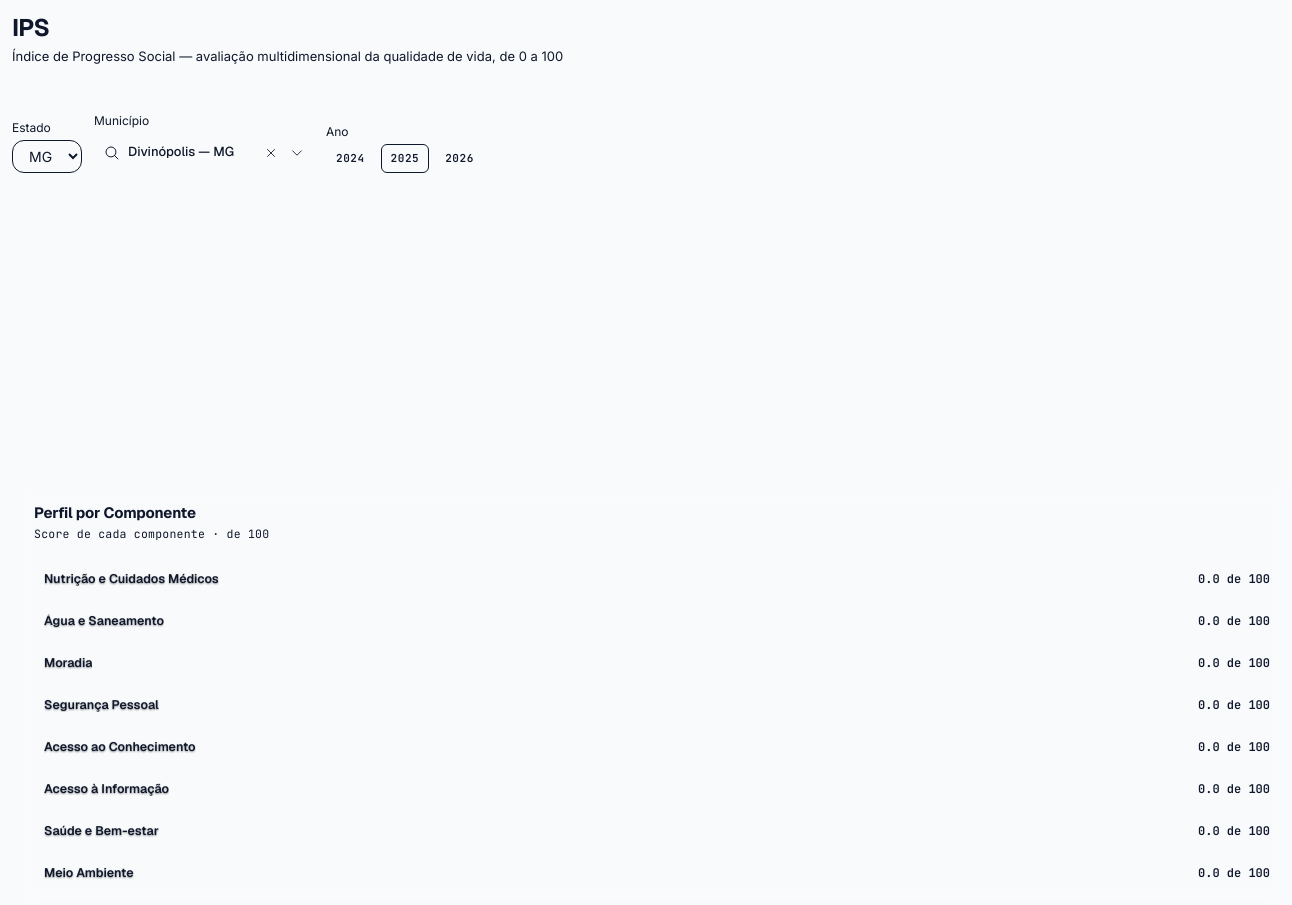
Scenario: IpsPage — anos com dados vêm do backend › município escolhido no seletor é mantido ao trocar de ano; sem dados no ano, a página avisa
This screenshot has width=1292, height=905.
Click the button with aria-label "Selecionar município".
click(178, 152)  # box [104, 132, 252, 172]
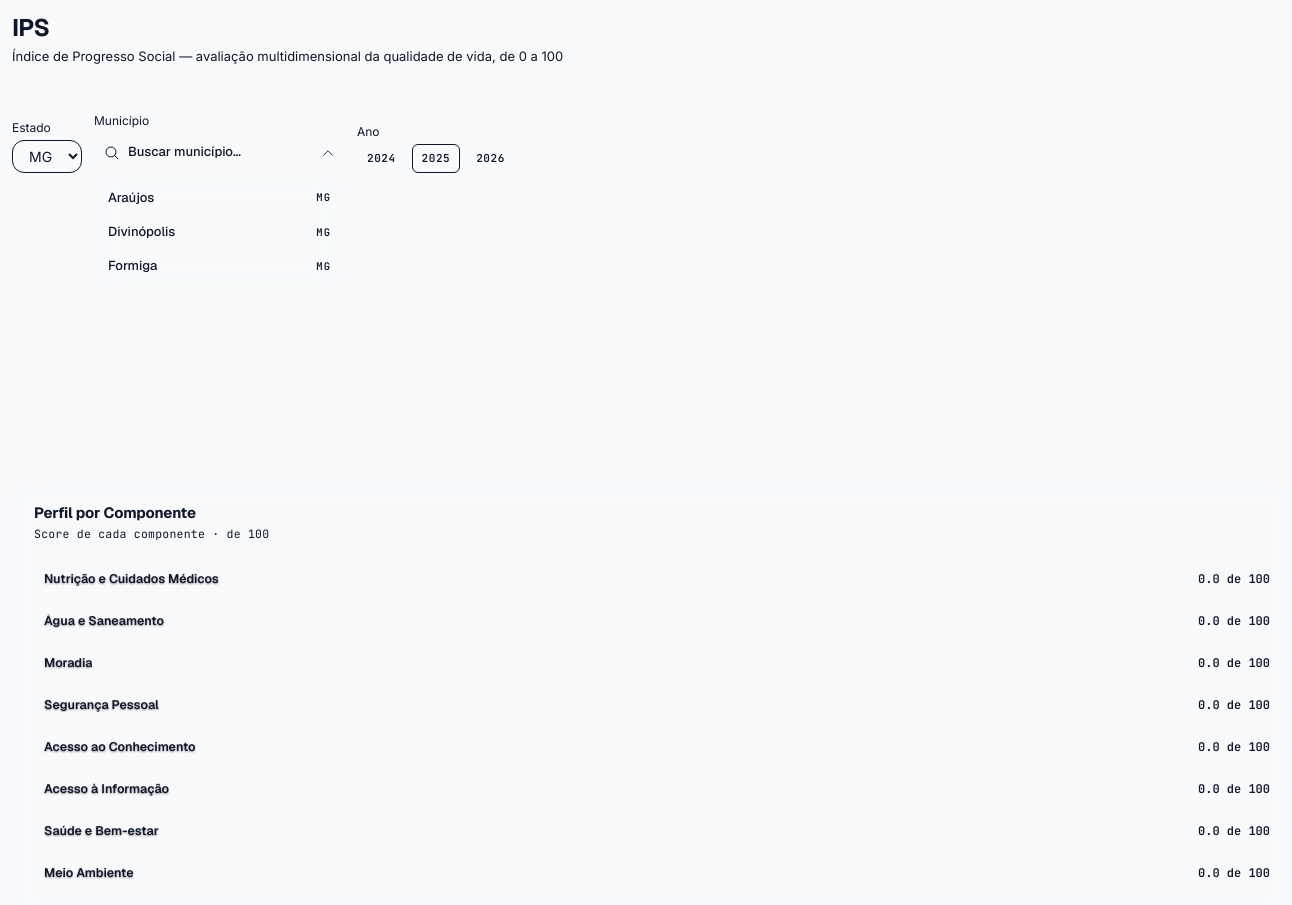
Click the option "Formiga MG".
click(133, 265)  # box [108, 257, 331, 274]
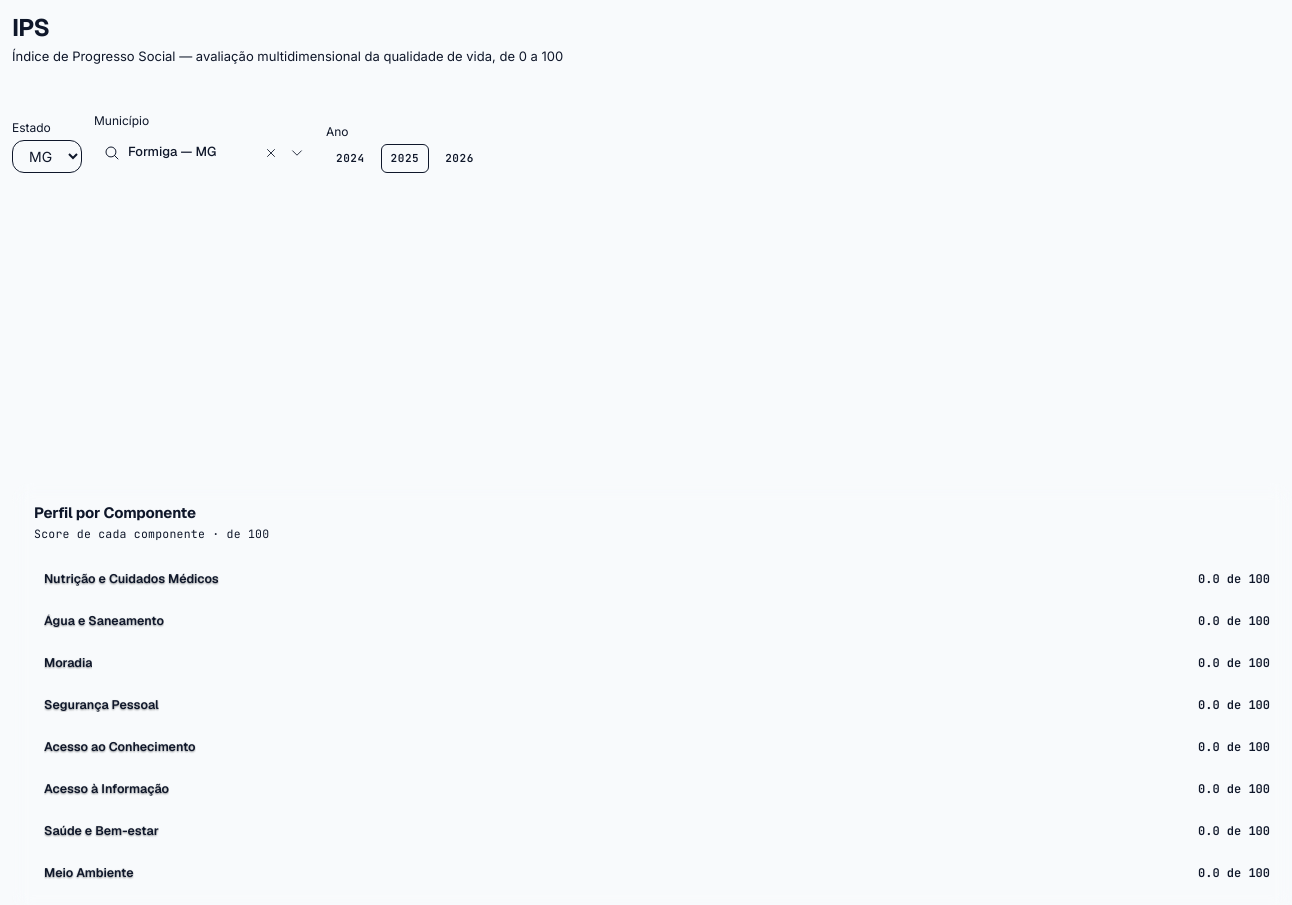
Click the button "2026".
click(460, 158)  # box [435, 144, 484, 172]
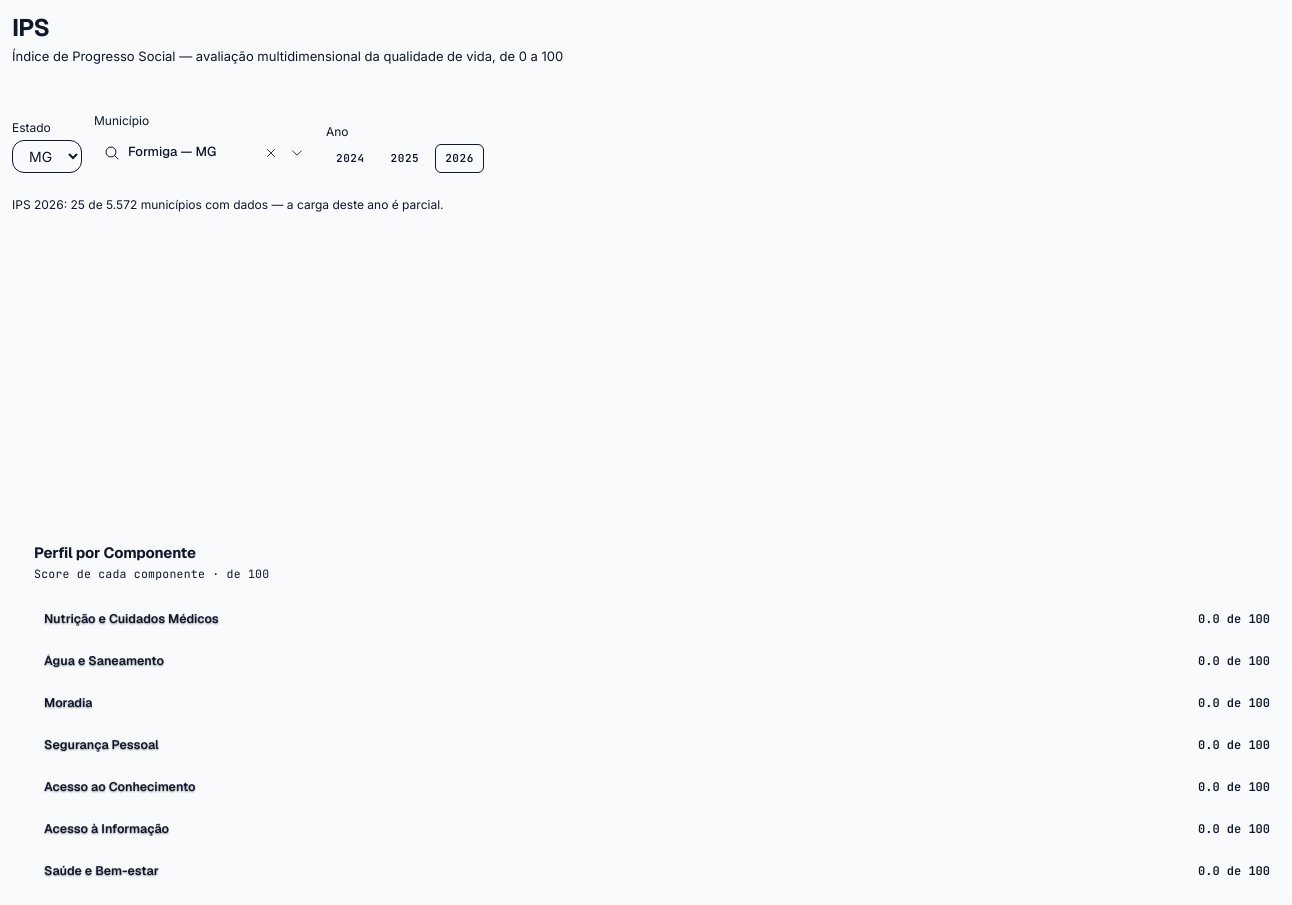
Expected: the text "não tem dados de IPS" is not shown
Click the button "2024".
click(350, 158)  # box [326, 144, 375, 172]
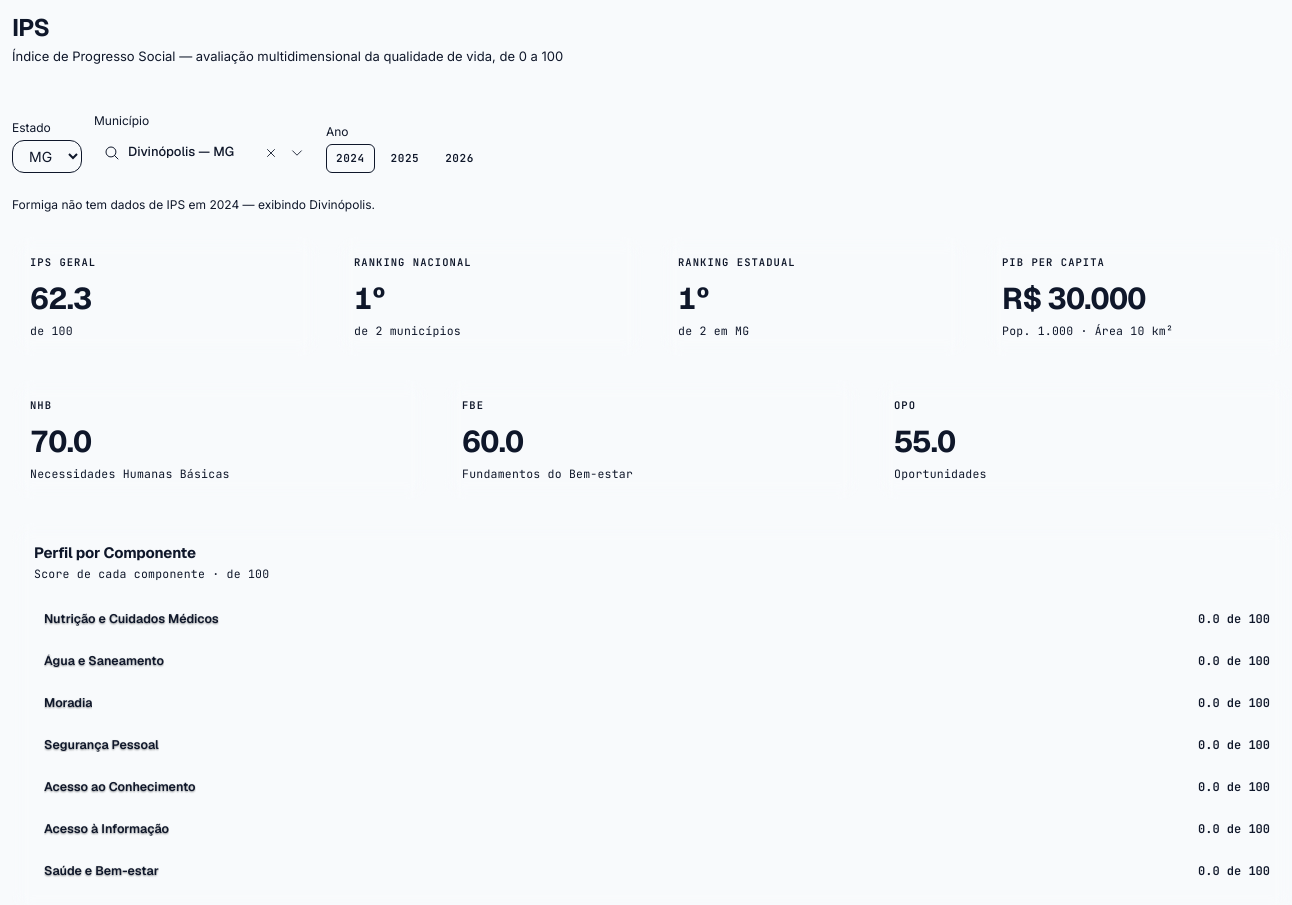
Result: the text "Formiga não tem dados de IPS em 2024 — exibindo Divinópolis." is shown at [12, 196, 375, 212]
